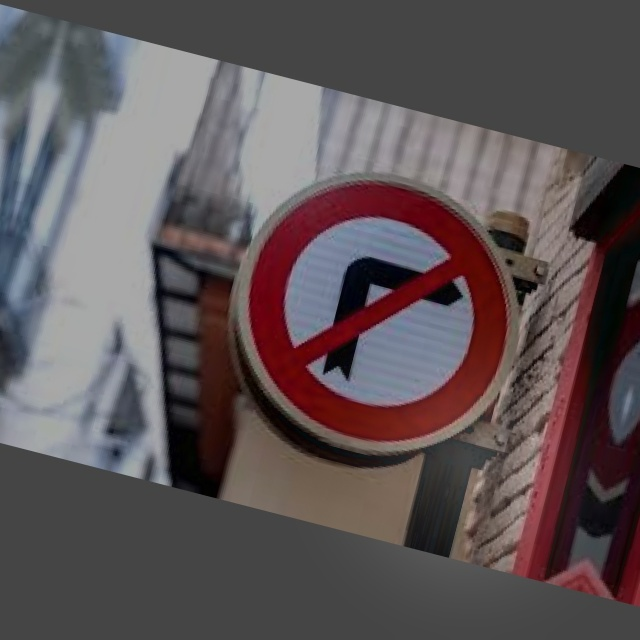Right_Turn_Prohibited: (204, 147, 543, 494)
